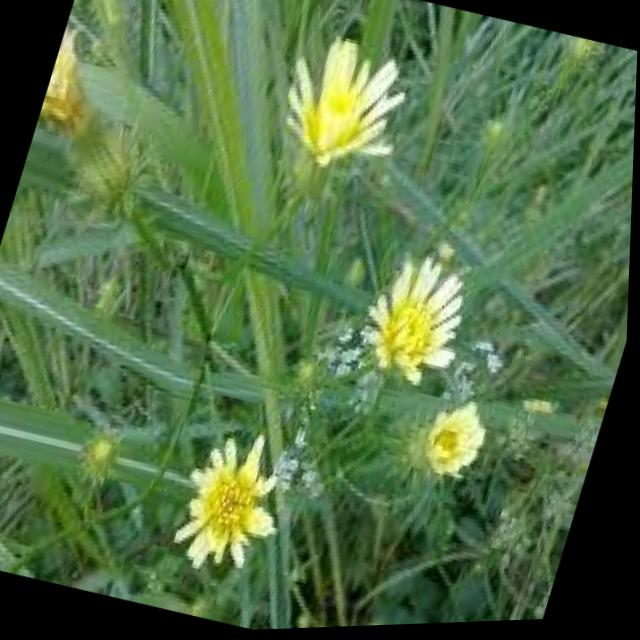Flower: (257, 9, 428, 174), (170, 417, 308, 587), (361, 244, 486, 401), (416, 375, 508, 501)
